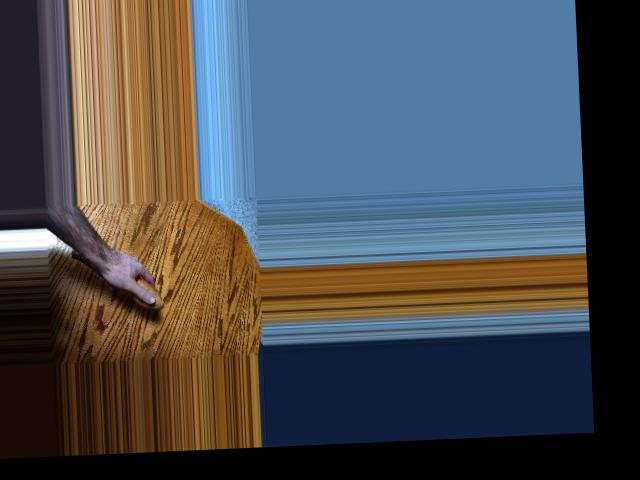sweet_potato: (68, 245, 164, 314)
